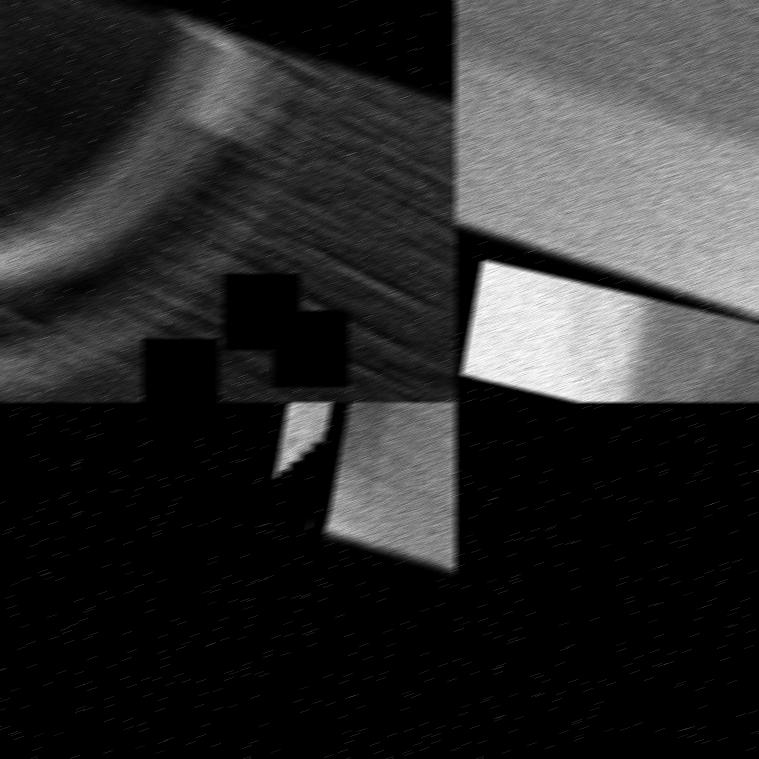Airbag: (0, 0, 456, 402), (454, 0, 759, 318), (324, 402, 456, 574)
